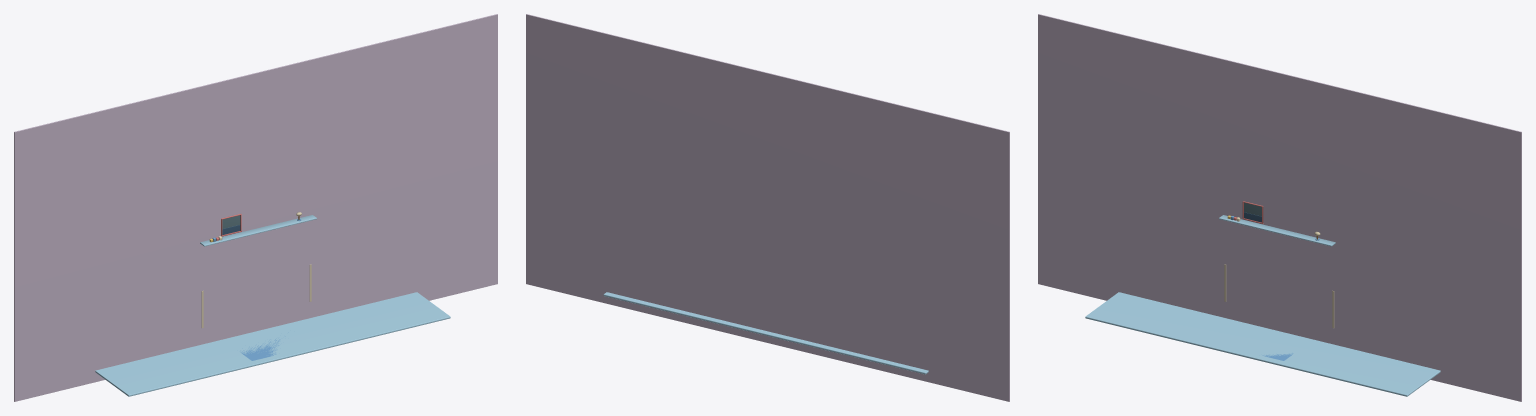
The model's file is backdrop_toybox.glb.
The picture shows the model from 3 angles, left to right: view 1: azimuth 30°, elevation 25°; view 2: azimuth 150°, elevation 25°; view 3: azimuth 330°, elevation 25°; orthographic projection.
Visible parts, largest first — view 1: Plain backdrop, Wide ground, Wide ledge; view 2: Plain backdrop, Wide ground; view 3: Plain backdrop, Wide ground, Wide ledge.
Part boxes in pixels (left/top/right/bottom): Plain backdrop: left=14, top=14, right=497, bottom=401; Wide ground: left=95, top=292, right=450, bottom=396; Wide ledge: left=200, top=212, right=316, bottom=246; Plain backdrop: left=526, top=14, right=1009, bottom=401; Wide ground: left=603, top=292, right=928, bottom=374; Plain backdrop: left=1038, top=14, right=1521, bottom=401; Wide ground: left=1085, top=292, right=1440, bottom=396; Wide ledge: left=1219, top=215, right=1335, bottom=246.
Size of the model in its own units: 60 by 32 by 8.
